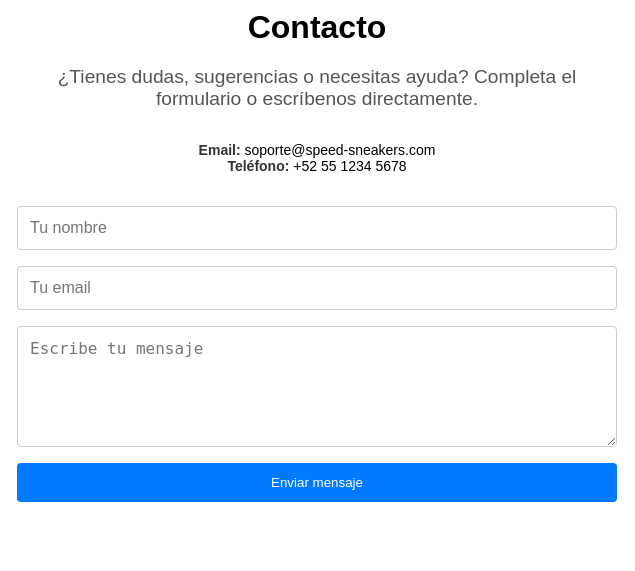
Scenario: ContactPage › muestra el mensaje de éxito al enviar el formulario completo
In the field with placeholder "Tu nombre": coordinates (317, 228) [17,206,617,250], type "Oscar"
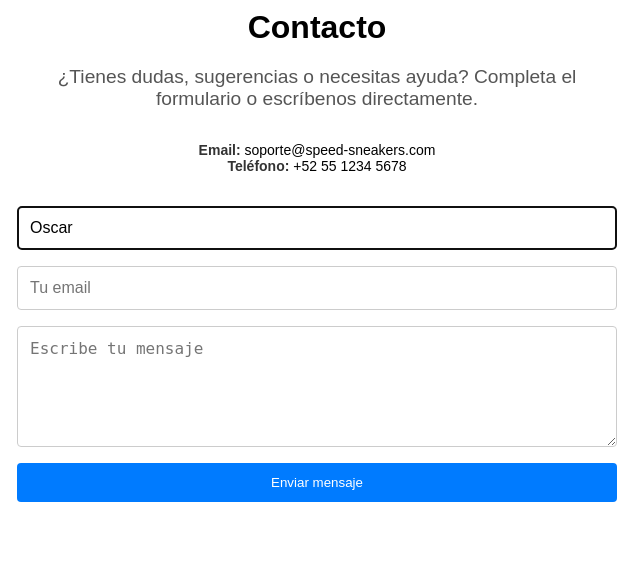
In the field with placeholder "Tu email": coordinates (317, 288) [17,266,617,310], type "oscar@test.com"
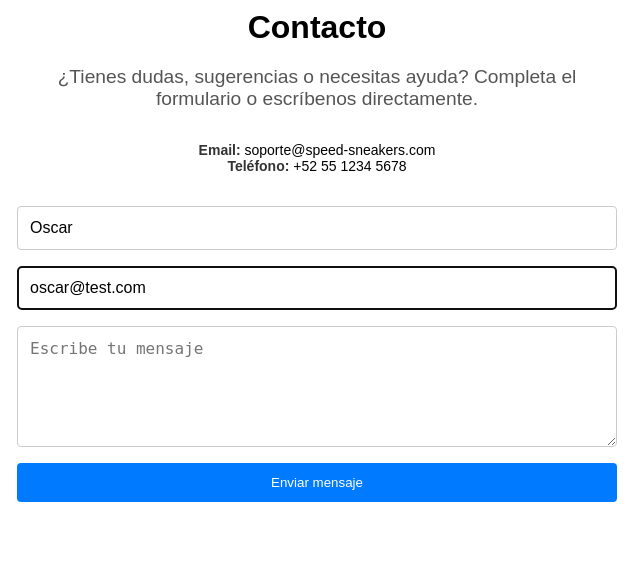
In the text box with placeholder "Escribe tu mensaje": coordinates (317, 386) [17,326,617,447], type "Hola, tengo una duda."
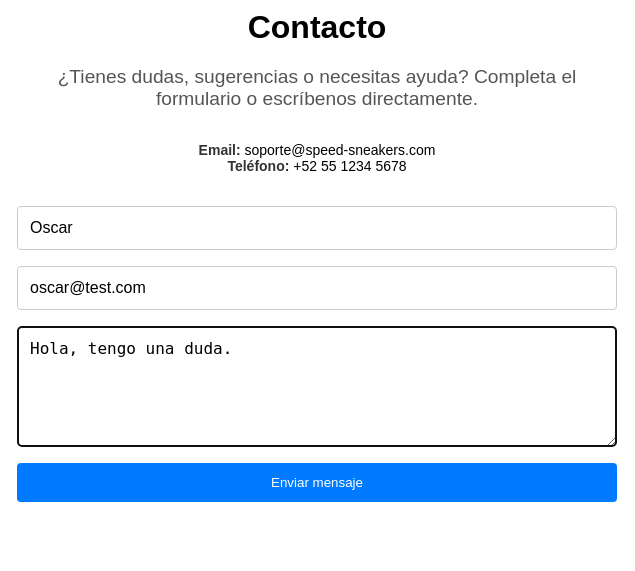
Click the button "Enviar mensaje": coordinates (317, 482) [17,463,617,502]
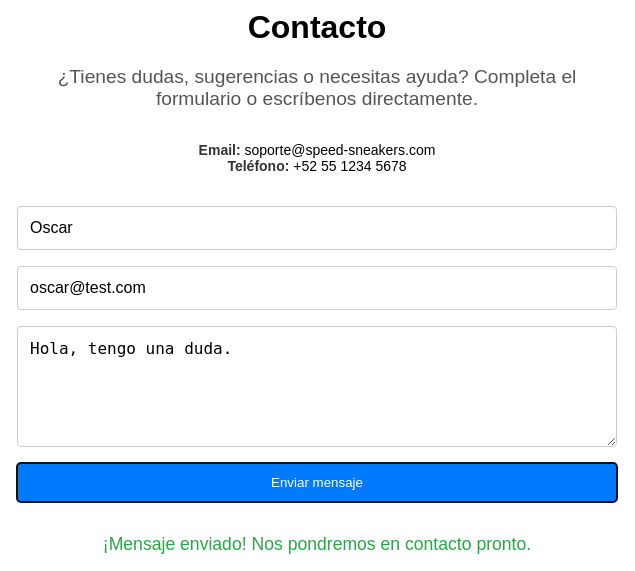
Now the text "¡Mensaje enviado! Nos pondremos en contacto pronto." is shown, box [103,534,531,554]
